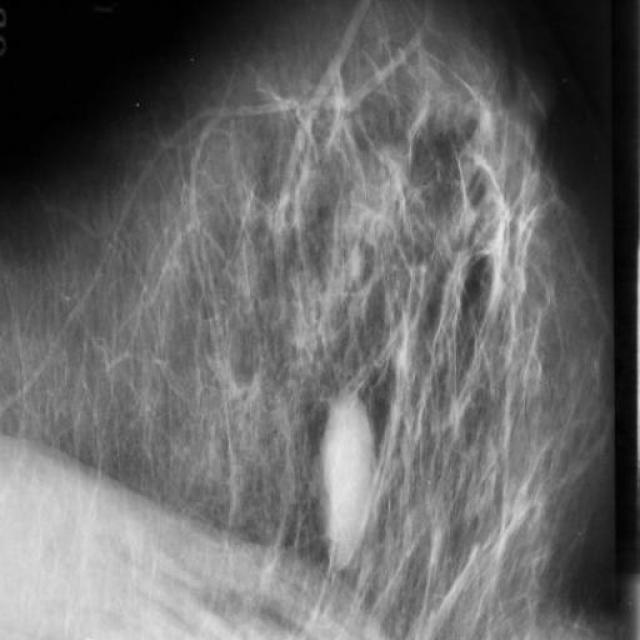cancer: (294, 28, 364, 144)
